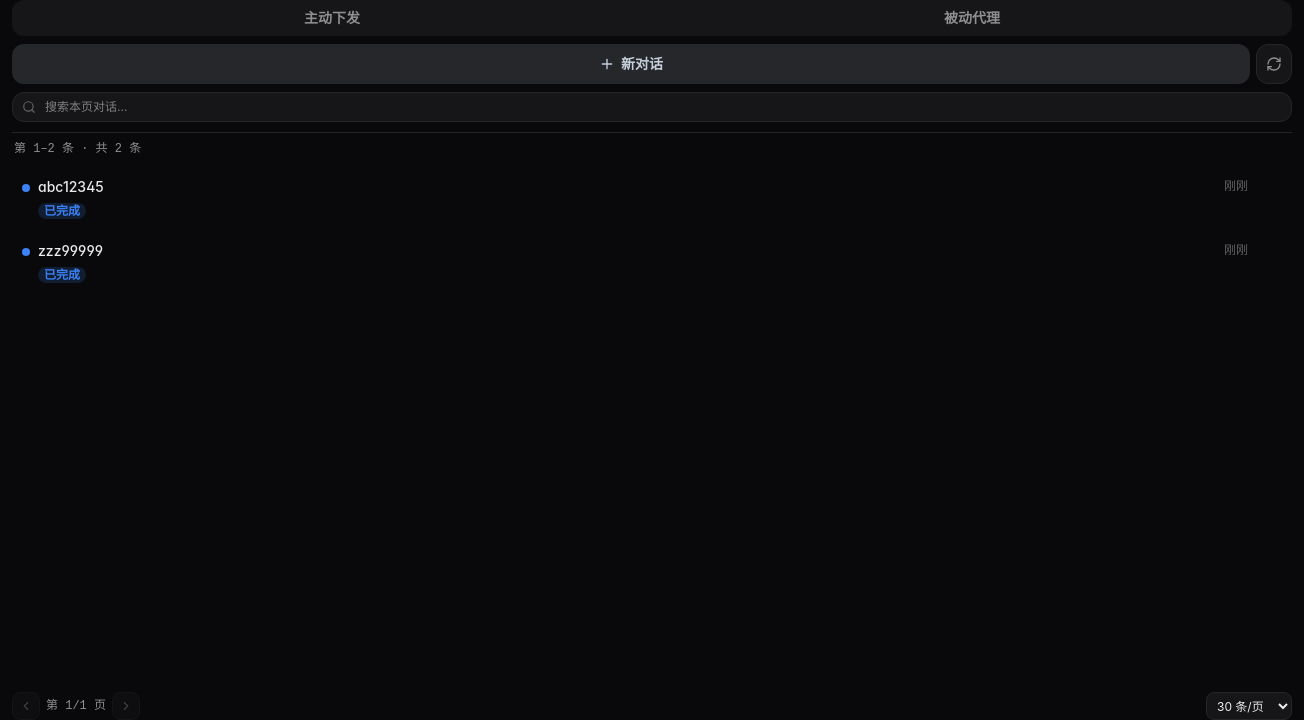
Test: ConversationList › 搜索框按 id 前缀过滤
Expected: the text "abc12345" is shown, [38, 177, 104, 197]
Type "abc" into the search field named "搜索对话". click: (652, 107)
box: [12, 92, 1292, 122]
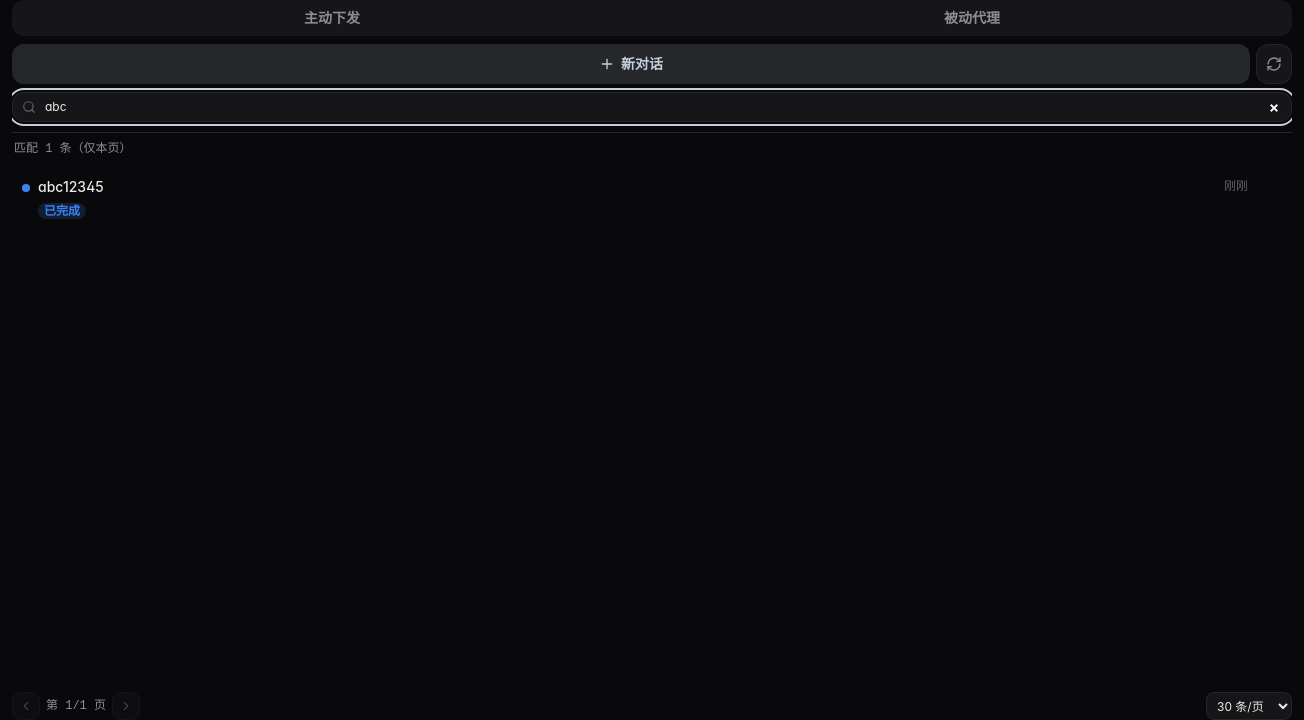
Expected: the text "abc12345" is shown, [38, 177, 104, 197]
Expected: the text "zzz99999" is gone
